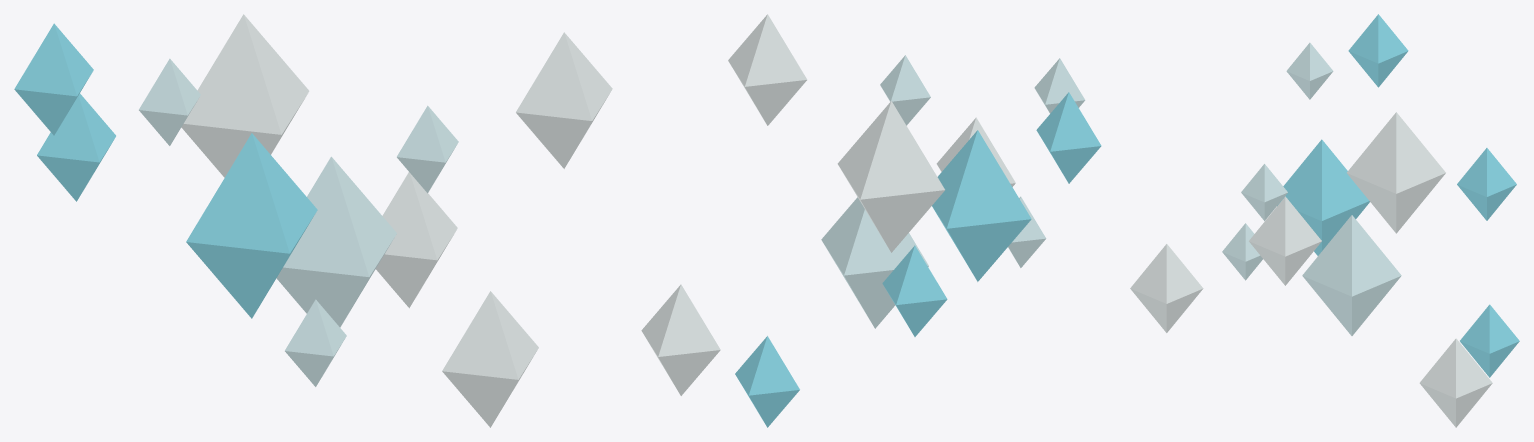
The model's file is SprayBuoySplashCore.glb.
3 renders of one model, left to right at view 1: azimuth 30°, elevation 25°; view 2: azimuth 150°, elevation 25°; view 3: azimuth 270°, elevation 25°, orthographic. The views are drawn at different scales.
Visible parts, largest first — view 1: SprayBuoySplashCore; view 2: SprayBuoySplashCore; view 3: SprayBuoySplashCore.
Part boxes in pixels (x1,y1,x2,y2): SprayBuoySplashCore: (14, 14, 612, 427); SprayBuoySplashCore: (641, 14, 1101, 427); SprayBuoySplashCore: (1130, 14, 1519, 427).
Bounding box in the file's own units: 1.52 × 1.18 × 1.49.
